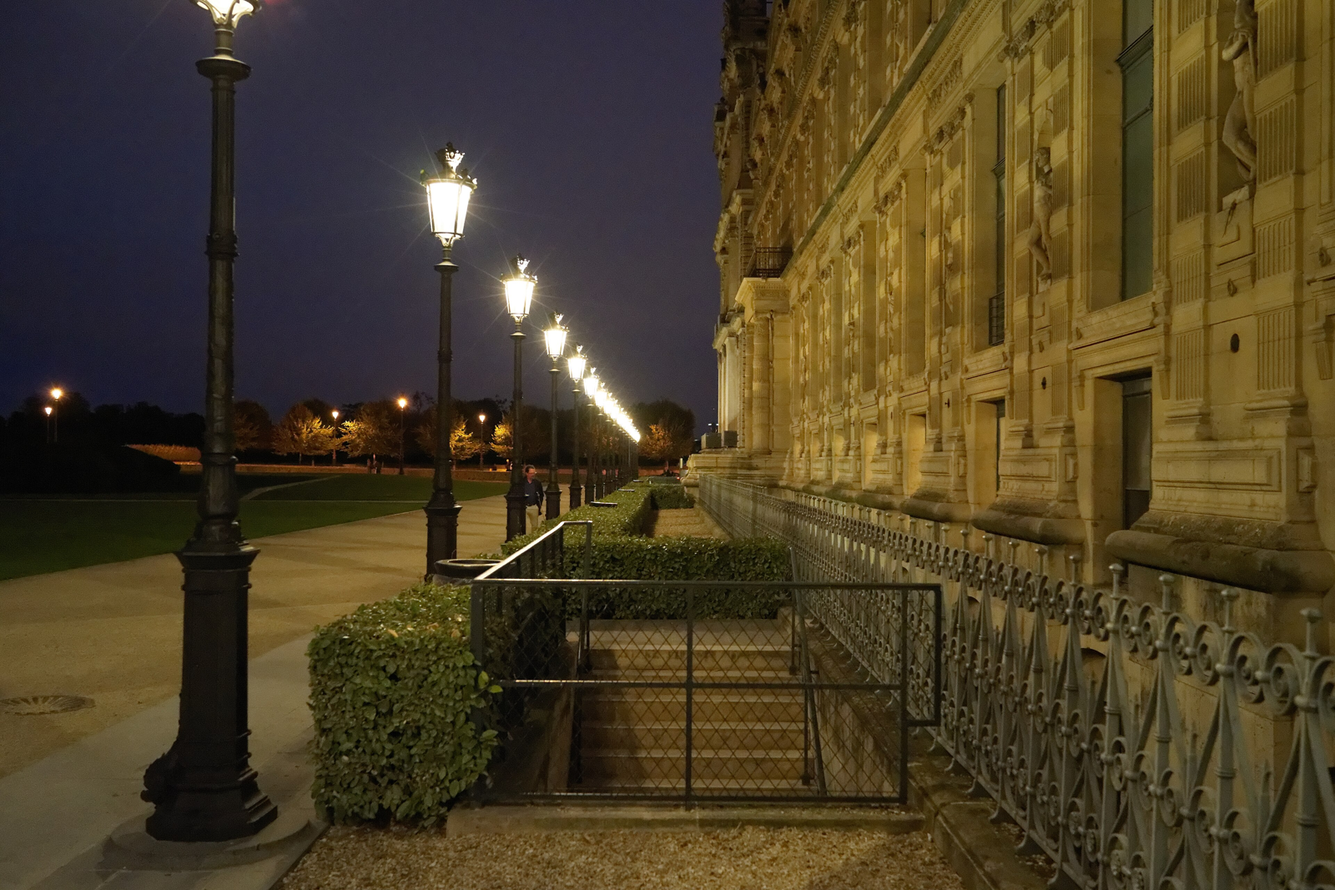fachada: (688, 0, 1335, 603)
poste: (108, 0, 305, 840), (386, 115, 488, 563), (492, 234, 551, 551), (592, 367, 651, 484), (569, 327, 594, 523)
